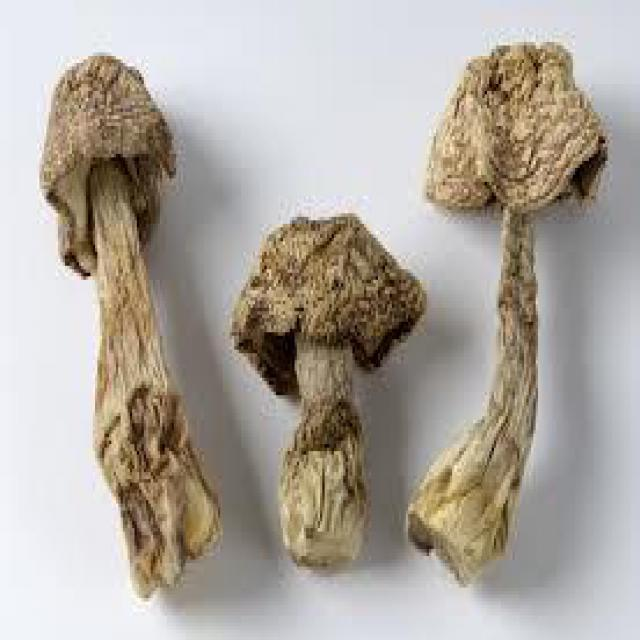Agaricus blazei Murill: (411, 41, 605, 589), (43, 58, 217, 601), (234, 216, 424, 586)
